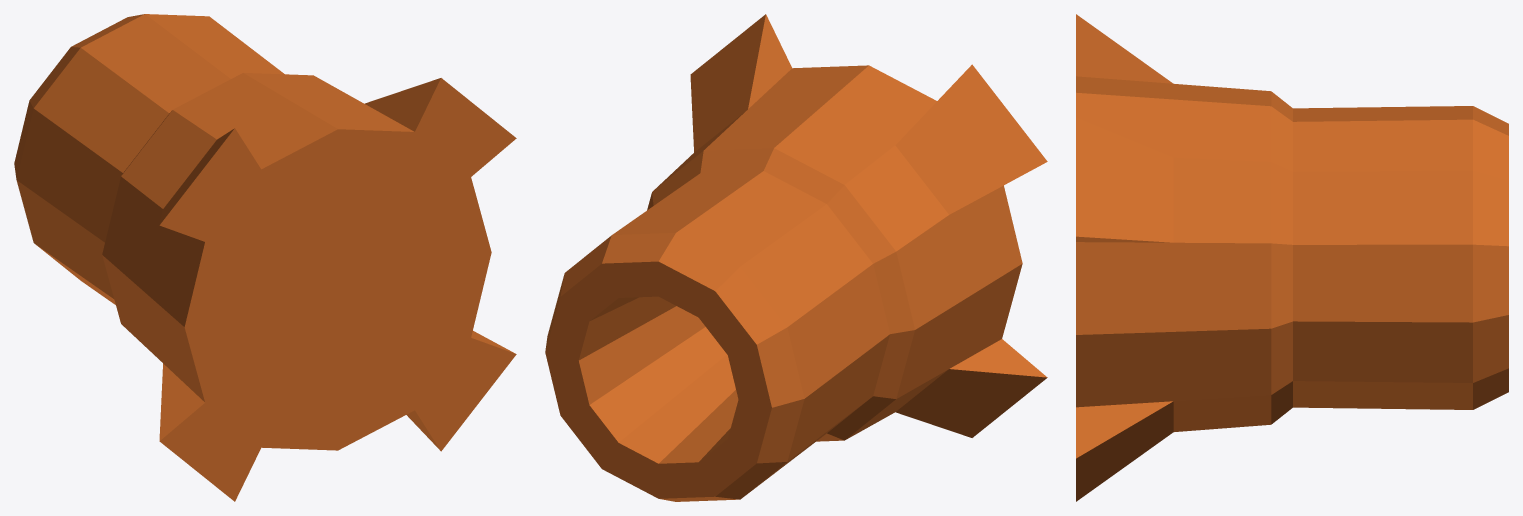
The model's file is bombard.fbx.
The picture shows the model from 3 angles, left to right: view 1: azimuth 30°, elevation 25°; view 2: azimuth 150°, elevation 25°; view 3: azimuth 270°, elevation 25°; orthographic projection. The views are drawn at different scales.
Parts seen in each view (by area): view 1: bombard; view 2: bombard; view 3: bombard.
Boxes of the visible parts, <box> form: bombard: <box>14,14,516,501</box>; bombard: <box>545,14,1047,501</box>; bombard: <box>1076,14,1508,501</box>.
Bounding box in the file's own units: 237 × 233 × 233.
